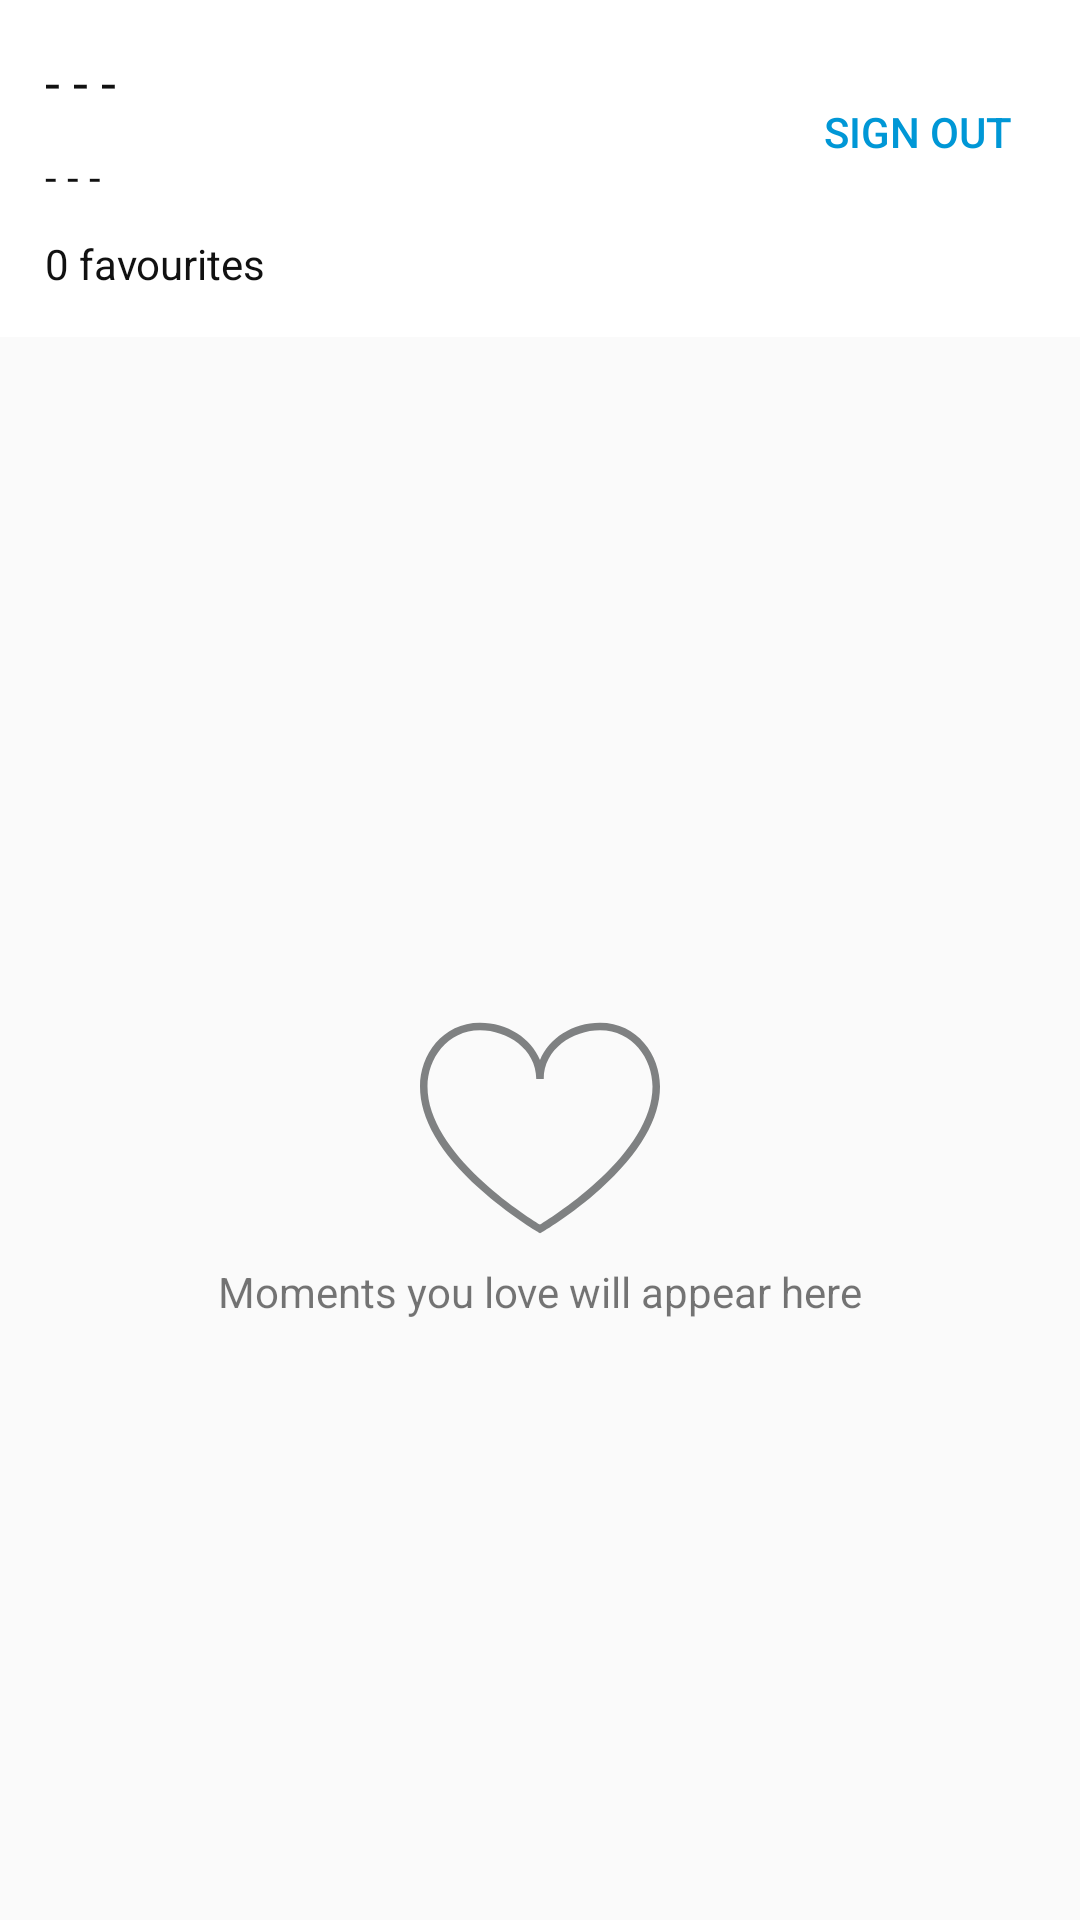

Screen size 1080w x 1920h. Icon name, then its box in pixels as (x1, y1, x2, y2):
heart: (420, 1022, 660, 1233)
